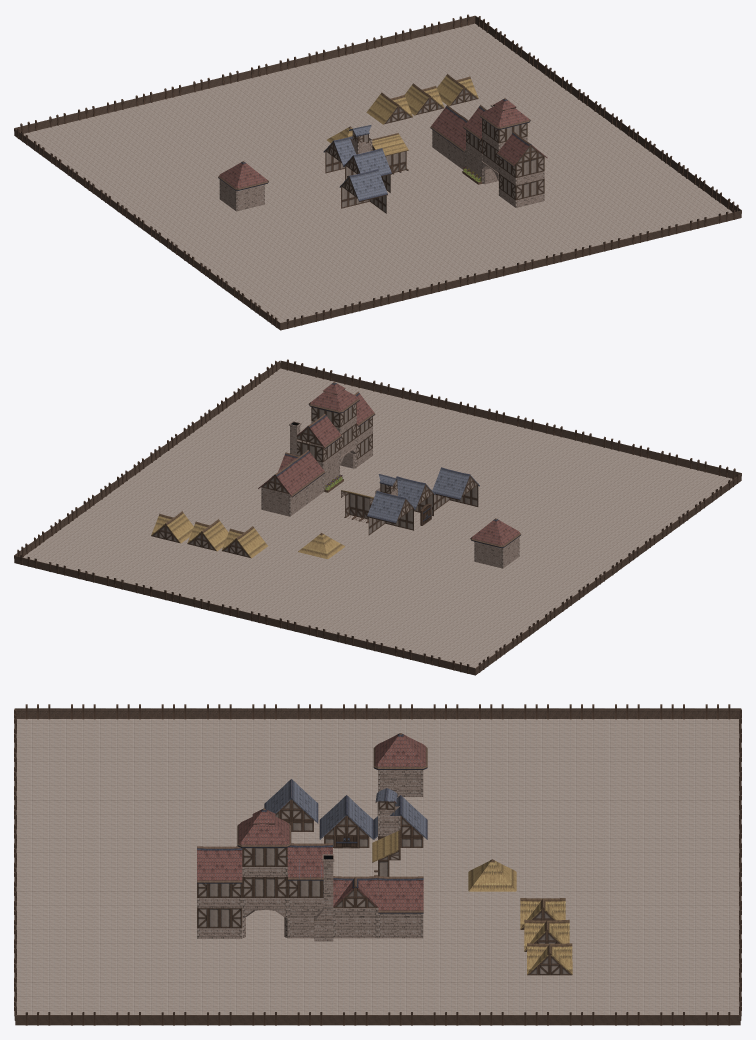
The picture shows the model from 3 angles, top to bottom: view 1: azimuth 30°, elevation 25°; view 2: azimuth 150°, elevation 25°; view 3: azimuth 270°, elevation 25°; orthographic projection. The views are drawn at different scales.
Parts seen in each view (by area): view 1: stone_floor_4x4, plaster_wall.002, plaster_wall_stone_base_alt.004, plaster_wall.001, plaster_wall_stone_base_alt.003, roof_straw_T.002, stone_square, roof_red_square_fancy, roof_straw_stickout_large, roof_straw_T.001, roof_red_square, roof_straw_T (+4 smaller); view 2: stone_floor_4x4, plaster_wall, plaster_wall.002, stone_square.001, roof_straw_T.002, stone_square, roof_straw_T.001, roof_red_square_fancy, roof_straw_T, roof_red_square, roof_red, roof_red.002 (+6 smaller); view 3: stone_floor_4x4, plaster_wall.001, plaster_wall.002, roof_red, roof_red.003, roof_red_square_fancy, roof_red_square, roof_straw_T.001, roof_red.002, plaster_wall_stone_base_alt, plaster_wall_stone_base_alt.004, roof_red_T (+35 smaller).
Part boxes in pixels (x1,y1,x2,y2): stone_floor_4x4: (23,23,732,322); plaster_wall.002: (339,169,387,213); plaster_wall_stone_base_alt.004: (499,173,544,207); plaster_wall.001: (343,148,391,192); plaster_wall_stone_base_alt.003: (499,156,544,185); roof_straw_T.002: (366,92,412,124); stone_square: (219,179,264,211); roof_red_square_fancy: (479,98,530,129); roof_straw_stickout_large: (372,133,408,174); roof_straw_T.001: (437,74,478,105); roof_red_square: (218,161,268,190); roof_straw_T: (404,83,444,115); stone_floor_4x4: (23,368,732,668); plaster_wall: (367,490,415,535); plaster_wall.002: (432,467,479,511); stone_square.001: (261,487,306,516); roof_straw_T.002: (221,526,267,558); stone_square: (474,536,519,568); roof_straw_T.001: (151,511,193,543); roof_red_square_fancy: (308,382,359,413); roof_straw_T: (187,519,228,551); roof_red_square: (470,518,521,547); roof_red: (258,462,308,497); roof_red.002: (297,414,341,448); stone_floor_4x4: (16,719,739,1014); plaster_wall.001: (319,795,373,847); plaster_wall.002: (264,779,318,831); roof_red: (378,876,423,913); roof_red.003: (197,846,242,883); roof_red_square_fancy: (237,808,291,847); roof_red_square: (373,733,427,769); roof_straw_T.001: (527,943,572,975); roof_red.002: (287,843,332,880); plaster_wall_stone_base_alt: (242,877,287,908); plaster_wall_stone_base_alt.004: (197,907,242,938); roof_red_T: (333,876,378,907).
Size of the model in its own units: 64.28 by 12.11 by 64.24.
22 materials, 22 textured.
